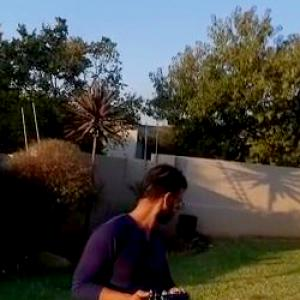follow: (65, 156, 194, 299)
